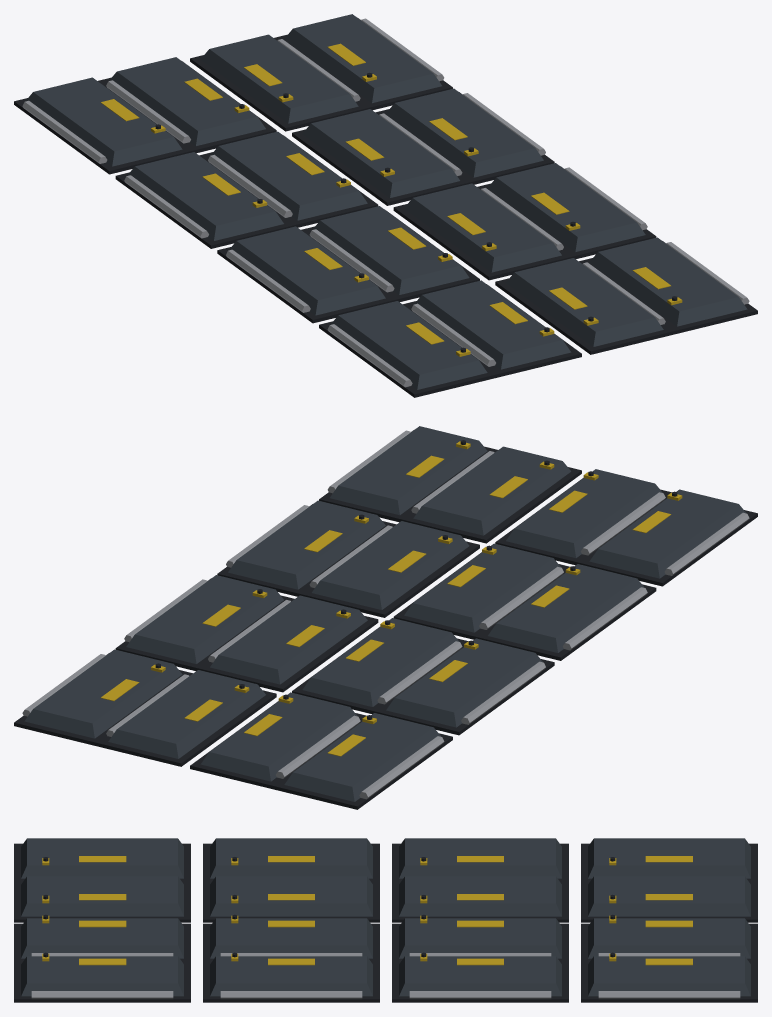
Rendered from vpu16_hatch.obj.
3 views of the same model, one above another, from view 1: azimuth 30°, elevation 25°; view 2: azimuth 150°, elevation 25°; view 3: azimuth 270°, elevation 25° (orthographic). The views are drawn at different scales.
Parts seen in each view (by area): view 1: vpu16_hatch; view 2: vpu16_hatch; view 3: vpu16_hatch.
Part boxes in pixels (x1,y1,x2,y2): vpu16_hatch: (14,14,757,397); vpu16_hatch: (14,426,757,809); vpu16_hatch: (14,838,757,1002).
Bounding box in the file's own units: 3.14 × 0.176 × 6.3.
